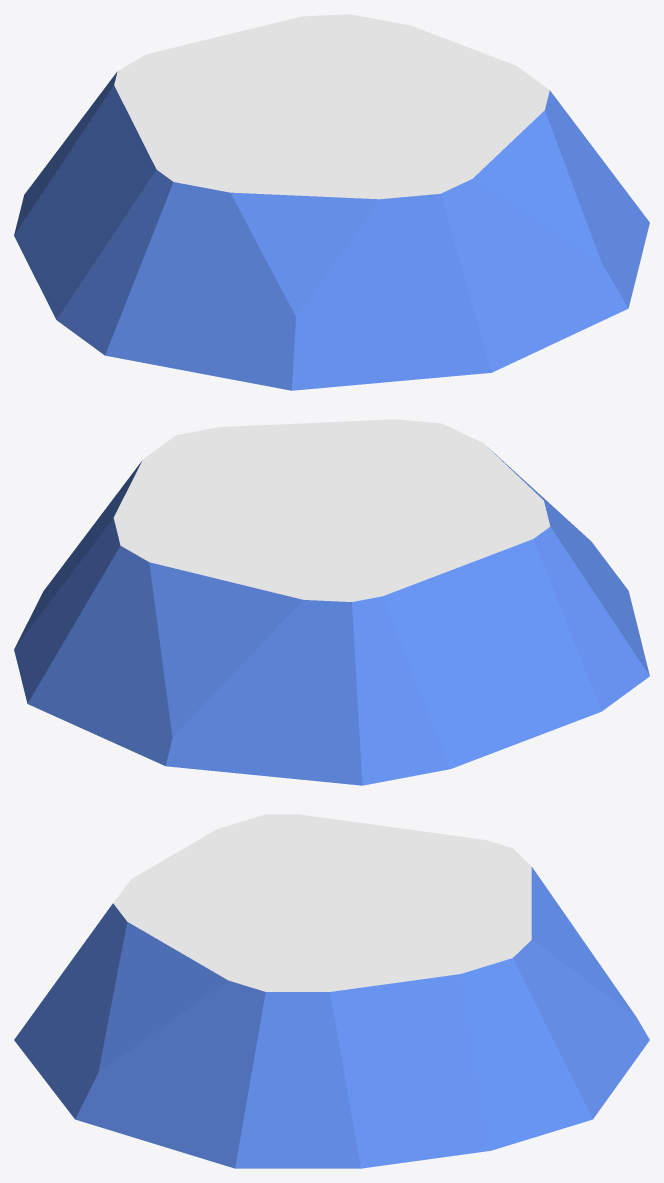
File: Rock028.fbx
3 views of the same model, one above another, from view 1: azimuth 30°, elevation 25°; view 2: azimuth 150°, elevation 25°; view 3: azimuth 270°, elevation 25° (orthographic). The views are drawn at different scales.
Parts seen in each view (by area): view 1: Rock028; view 2: Rock028; view 3: Rock028.
Part boxes in pixels (bbox=[...]): Rock028: bbox=[14, 14, 649, 390]; Rock028: bbox=[14, 419, 649, 785]; Rock028: bbox=[14, 814, 649, 1168].
Size of the model in its own units: 101 by 25.06 by 105.
